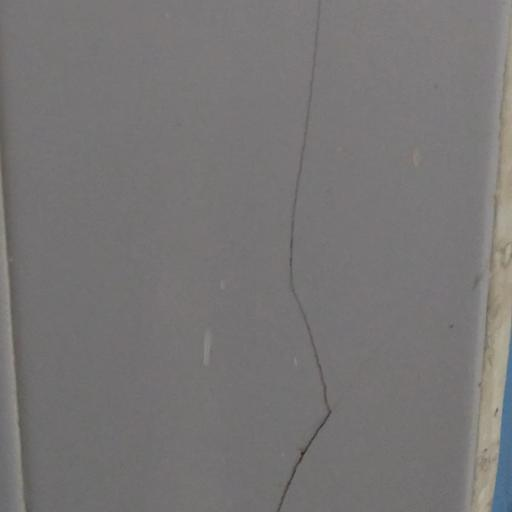minor_crack: (246, 0, 345, 512)
